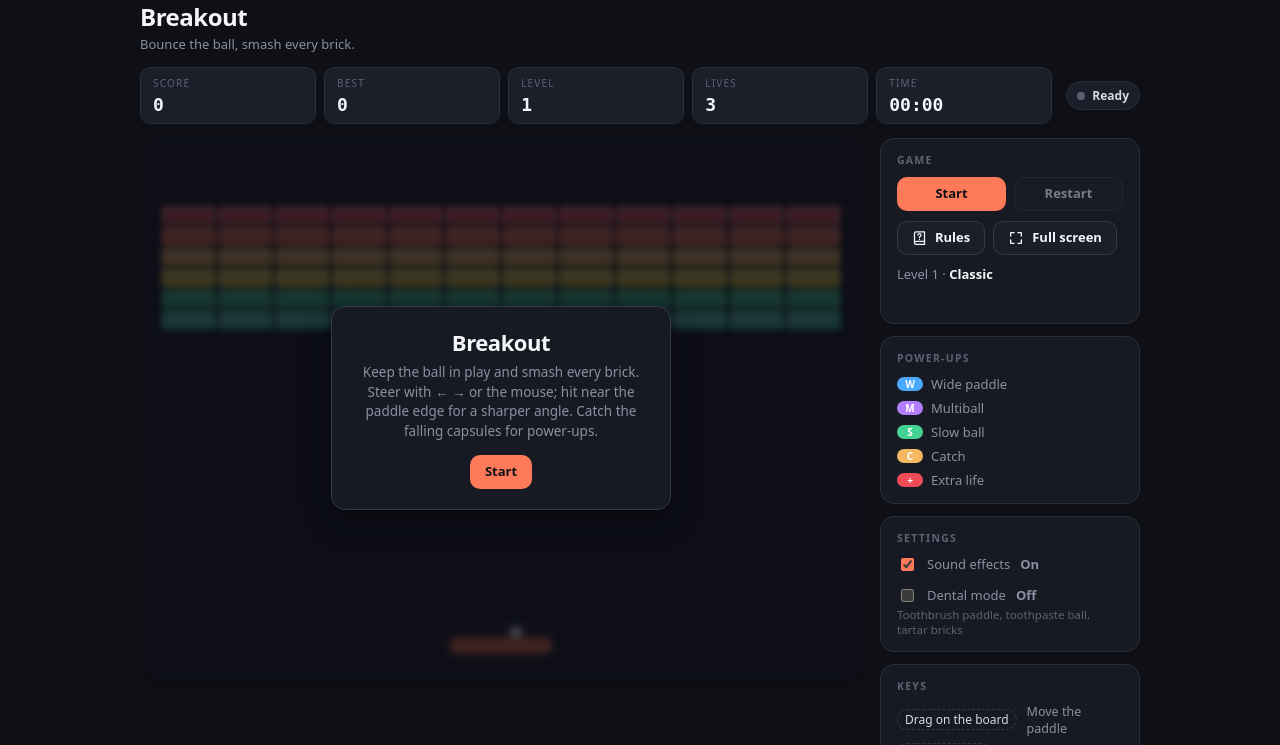
Breakout touch controls › a tap launches the ball; a drag does not
The image size is (1280, 745).
Press Space
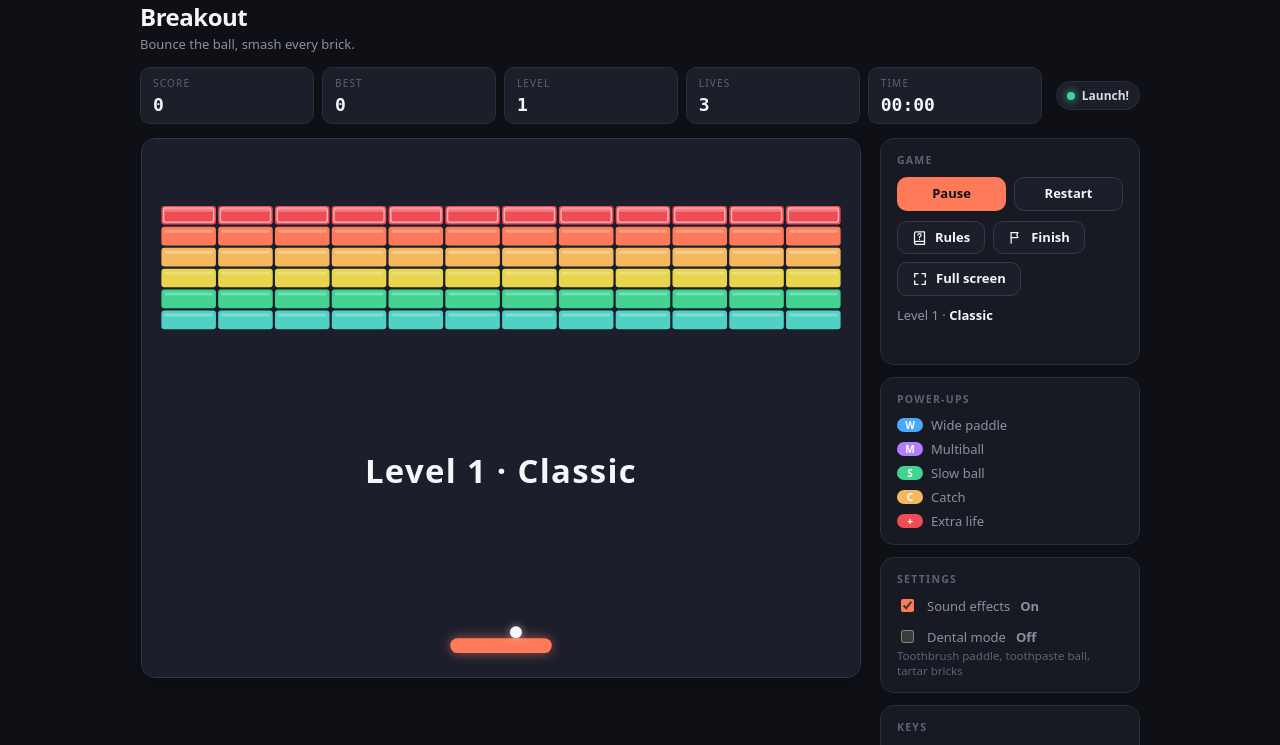
Press the mouse on the picture "Level 1 · Classic" at (501, 408), box [141,138,861,678]
Wait 200 ms
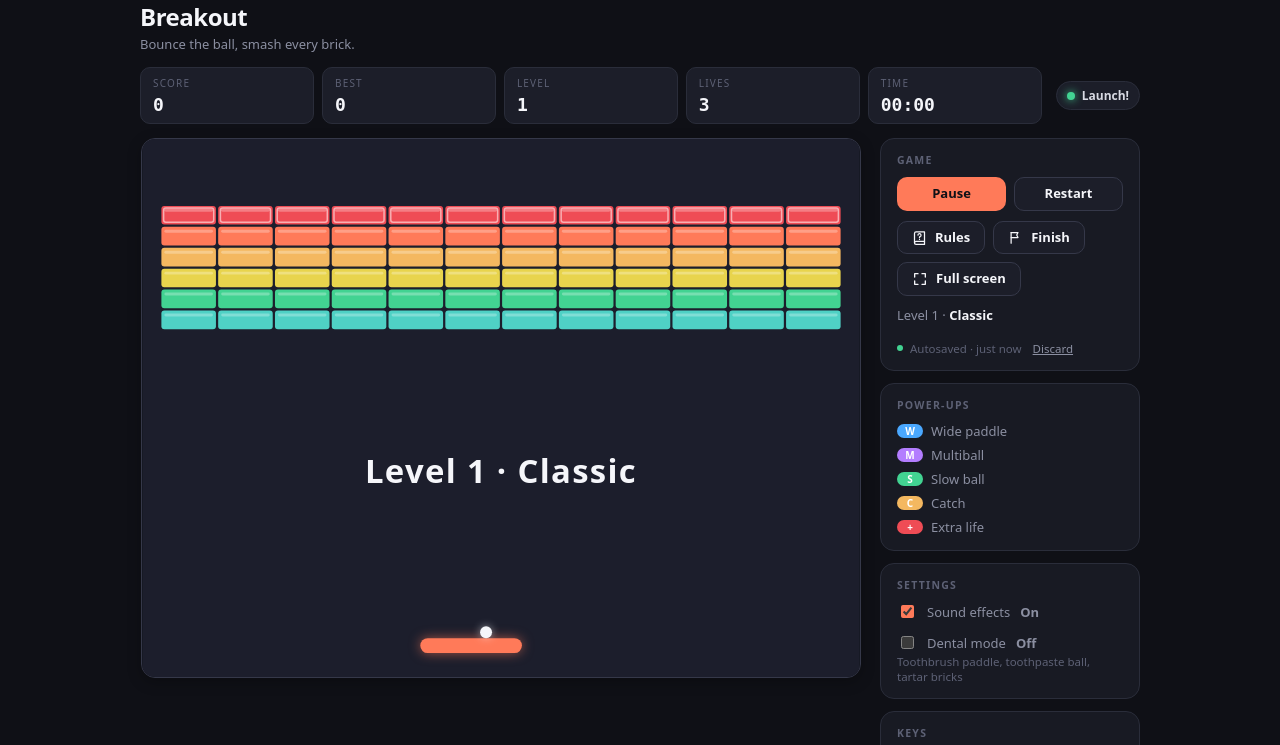
expect the text "Launch!" is shown: met, box [1056,81,1140,110]
Press the mouse on the picture "Level 1 · Classic" at (501, 408), box [141,138,861,678]
Wait 200 ms
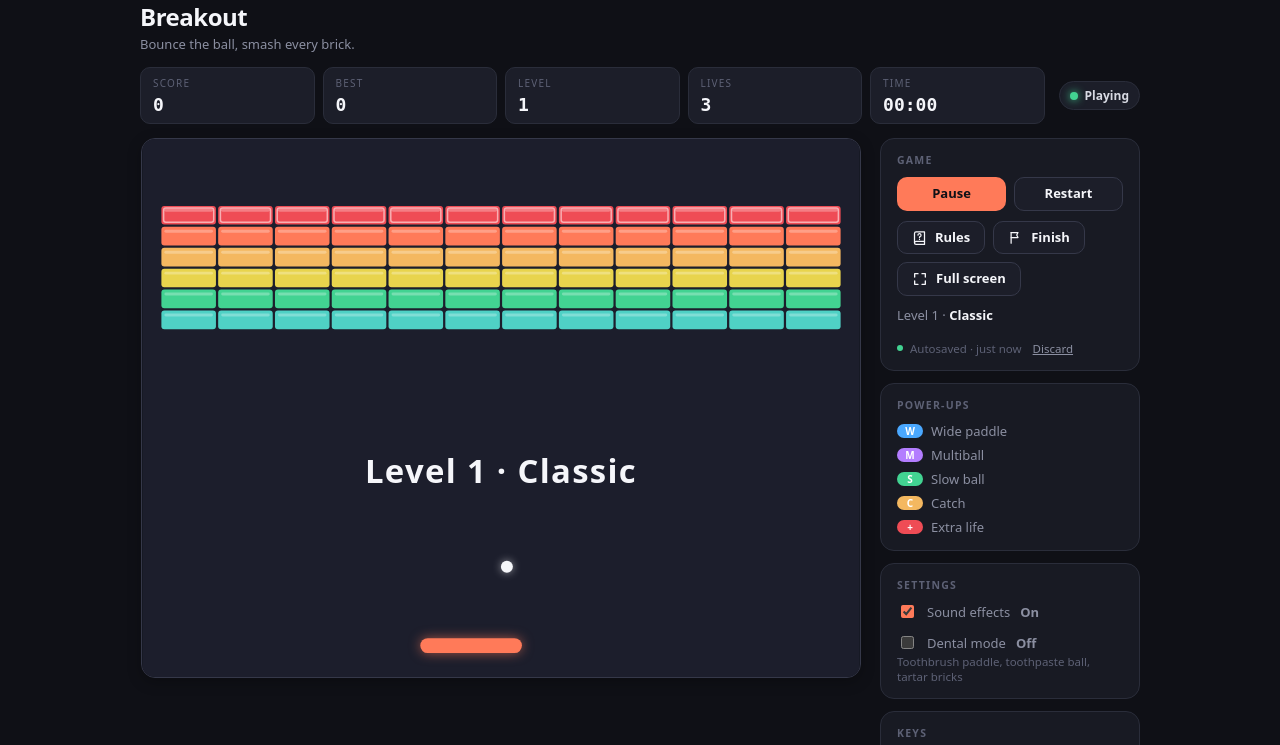
expect the text "Launch!" is gone: met
